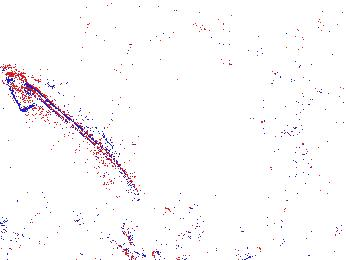glassfish: (1, 66, 165, 227)
